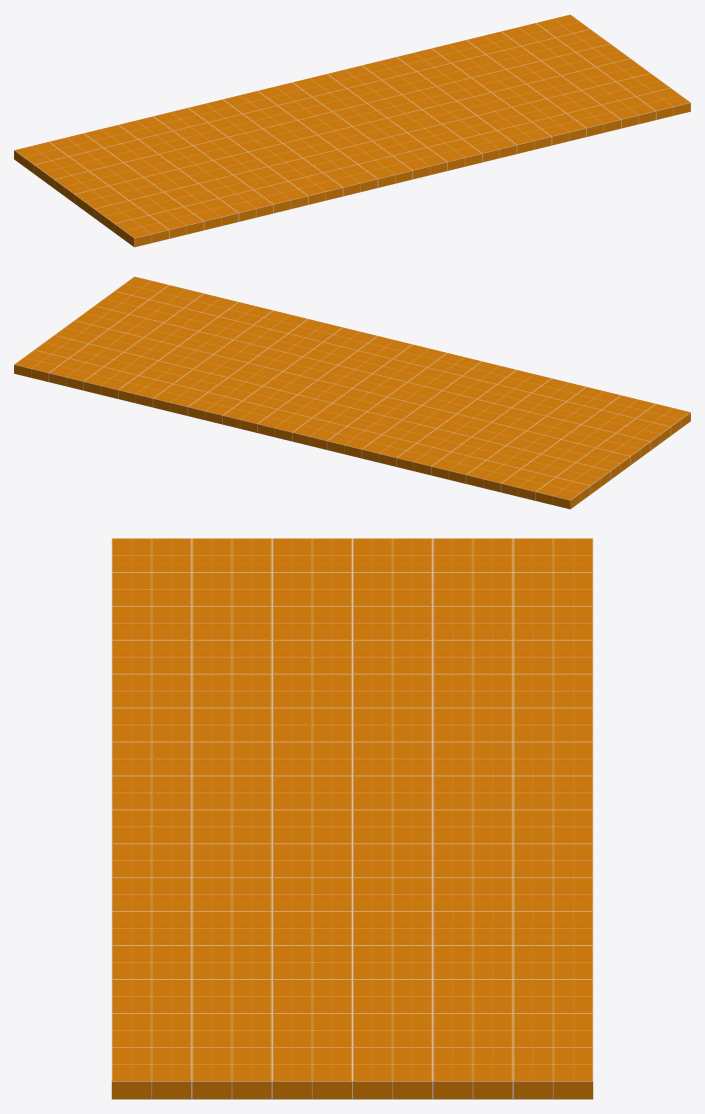
The model's file is Plate4_16x6.obj.
3 renders of one model, top to bottom at view 1: azimuth 30°, elevation 25°; view 2: azimuth 150°, elevation 25°; view 3: azimuth 270°, elevation 25°, orthographic. The views are drawn at different scales.
Visible parts, largest first — view 1: Plate4_16x6_Cube.366; view 2: Plate4_16x6_Cube.366; view 3: Plate4_16x6_Cube.366.
Boxes of the visible parts, x1=… form: Plate4_16x6_Cube.366: x1=14, y1=14, x2=690, y2=247; Plate4_16x6_Cube.366: x1=14, y1=276, x2=690, y2=509; Plate4_16x6_Cube.366: x1=111, y1=538, x2=593, y2=1099.
Bounding box in the file's own units: 16 × 0.25 × 6.
1 material, 1 textured.
